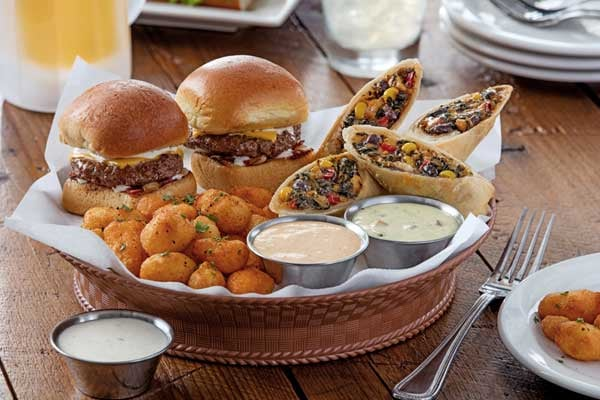pizza: (318, 0, 428, 77)
soup: (174, 53, 314, 194), (53, 79, 193, 214), (340, 121, 495, 220)
sushi: (49, 308, 174, 398), (246, 213, 369, 289), (345, 194, 461, 268)
